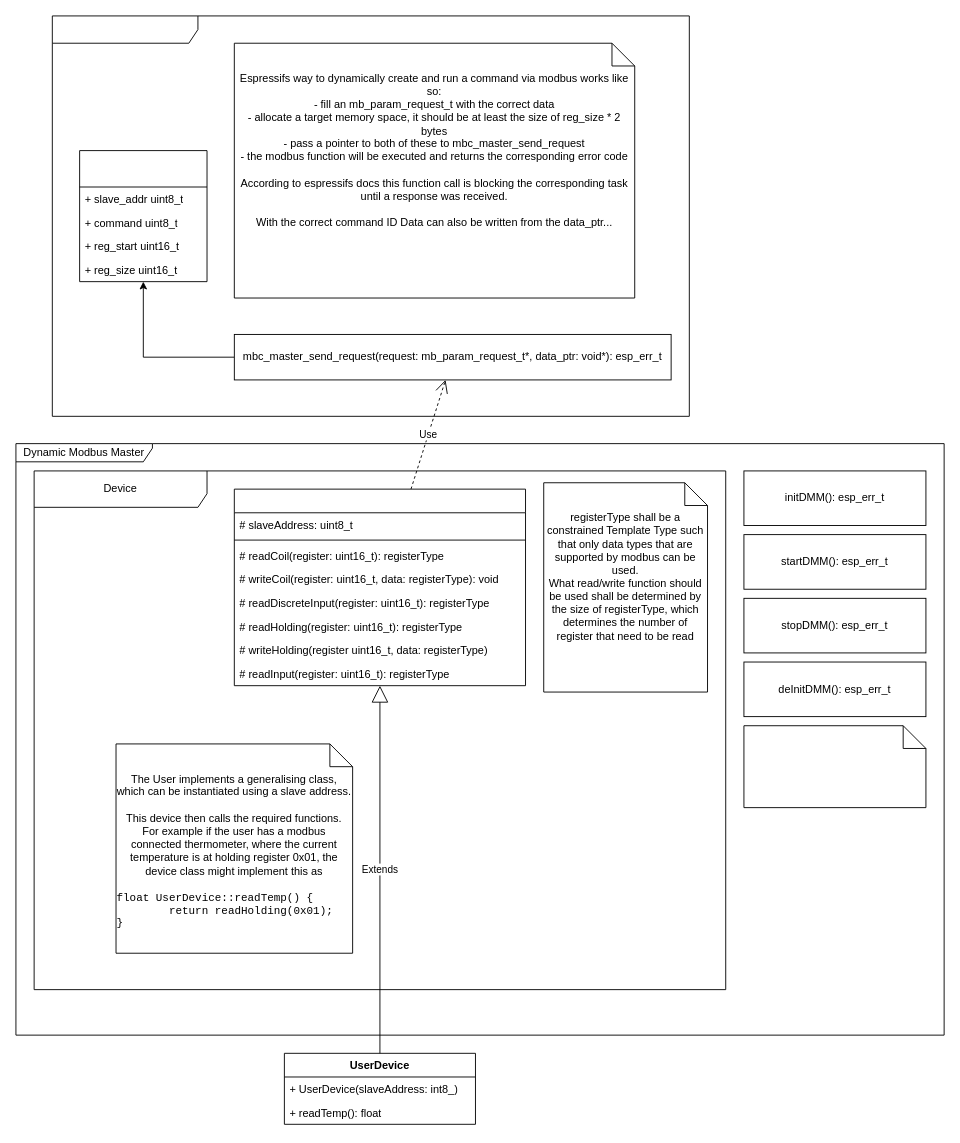
The diagram is 960 pixels wide and 1143 high, and some of its shapes have lost their labels. Here are the shapes that lost their labels. From the top down, the box of each, then its label:
(79, 150, 207, 282): <<struct>> mb_param_request_t
(51, 15, 689, 416): esp-modbus dynamic command
(233, 488, 526, 686): ModbusDeviceAbs
(743, 725, 926, 808): The needed data to configure the Modbus shall be set in the menuconfig
